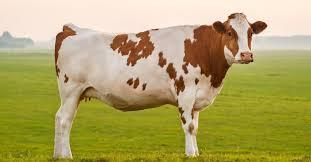cow: (53, 14, 267, 160)
